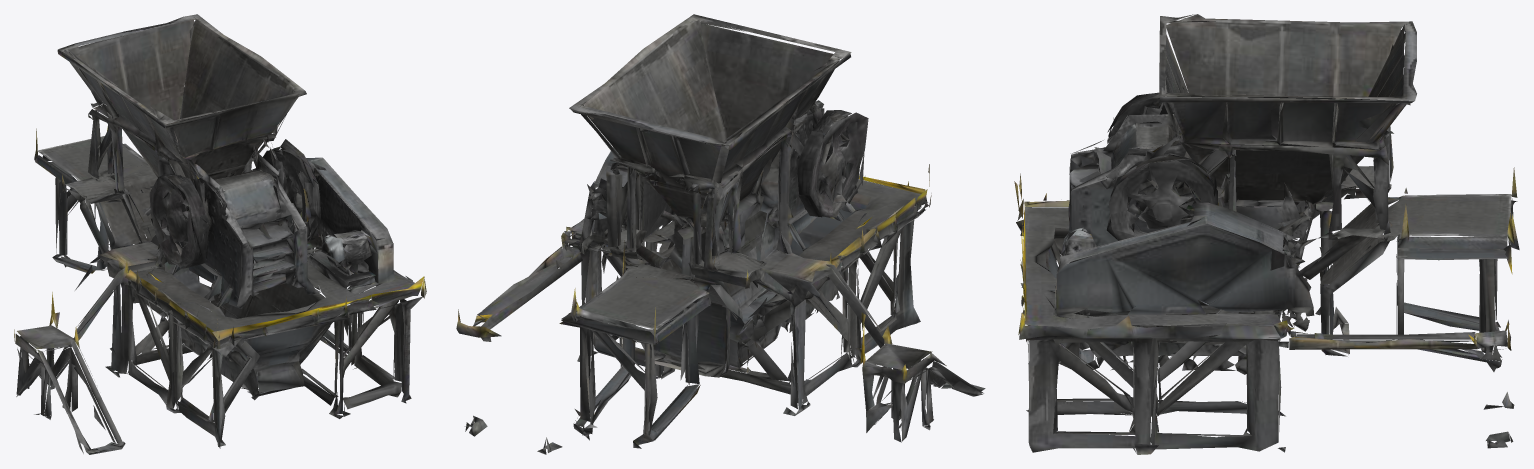
The model's file is steinbruch_brecher.glb.
The picture shows the model from 3 angles, left to right: view 1: azimuth 30°, elevation 25°; view 2: azimuth 150°, elevation 25°; view 3: azimuth 270°, elevation 25°; orthographic projection. The views are drawn at different scales.
Parts seen in each view (by area): view 1: Prop; view 2: Prop; view 3: Prop.
Boxes of the visible parts, x1,y1,x2,y2 form: Prop: [14, 14, 426, 454]; Prop: [456, 14, 985, 454]; Prop: [1014, 14, 1519, 454].
Size of the model in its own units: 1.07 by 1 by 1.33.
Materials: 1 (1 with a texture image).
